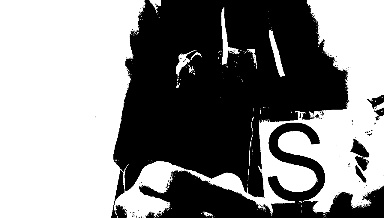S: (259, 121, 335, 199)
